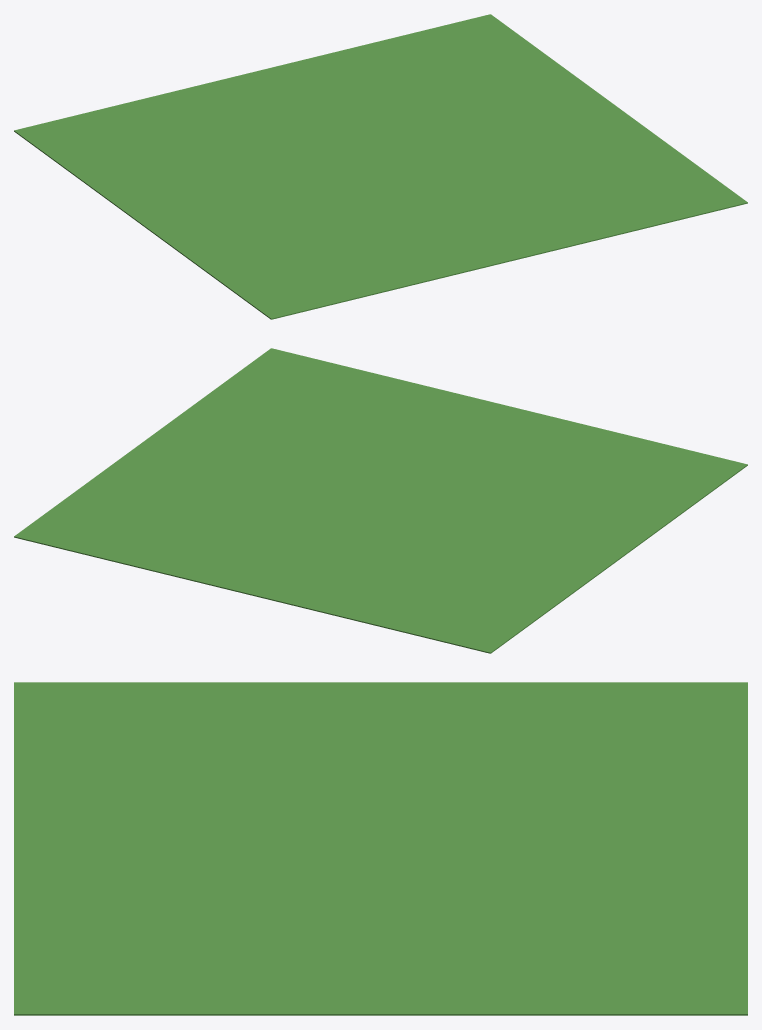
File: Ground_Main_0.glb
The picture shows the model from 3 angles, top to bottom: view 1: azimuth 30°, elevation 25°; view 2: azimuth 150°, elevation 25°; view 3: azimuth 270°, elevation 25°; orthographic projection. The views are drawn at different scales.
Visible parts, largest first — view 1: Ground_Main_0; view 2: Ground_Main_0; view 3: Ground_Main_0.
Boxes of the visible parts, left/top/right/bottom form: Ground_Main_0: left=14, top=14, right=747, bottom=319; Ground_Main_0: left=14, top=348, right=747, bottom=653; Ground_Main_0: left=14, top=682, right=747, bottom=1015.
Size of the model in its own units: 920 by 2 by 860.
1 material, 1 textured.
